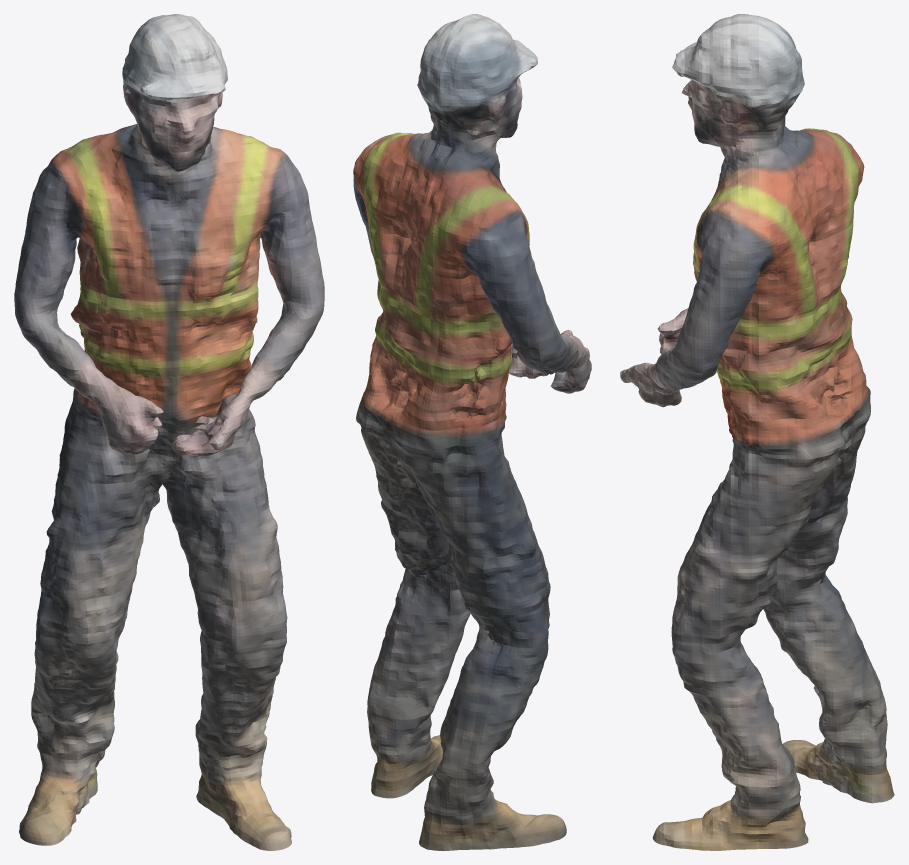
Rendered from standup_18.glb.
The picture shows the model from 3 angles, left to right: view 1: azimuth 30°, elevation 25°; view 2: azimuth 150°, elevation 25°; view 3: azimuth 270°, elevation 25°; orthographic projection. The views are drawn at different scales.
Visible parts, largest first — view 1: world; view 2: world; view 3: world.
Boxes of the visible parts, x1,y1,x2,y2 form: world: (14, 14, 324, 850); world: (353, 14, 591, 850); world: (620, 14, 894, 850).
Bounding box in the file's own units: 0.6262 × 1.93 × 0.6079.
